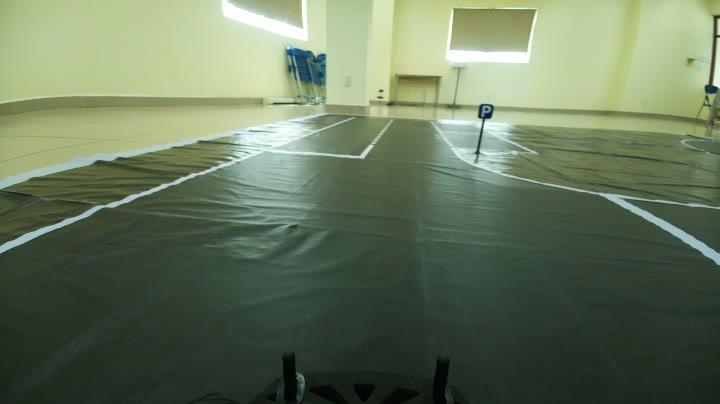parking: (474, 99, 499, 125)
